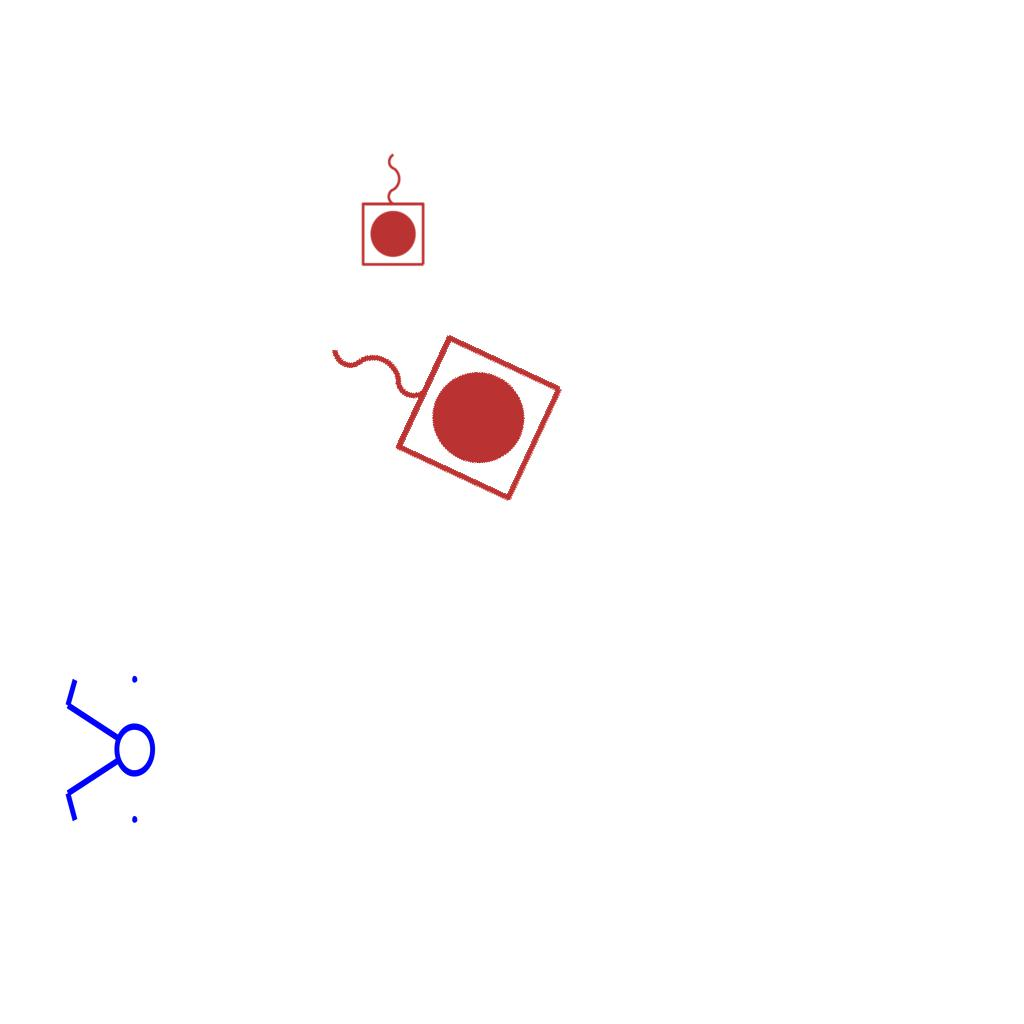Serienschalter: (61, 667, 157, 835)
Zugtaster: (293, 278, 575, 512), (358, 148, 430, 270)
